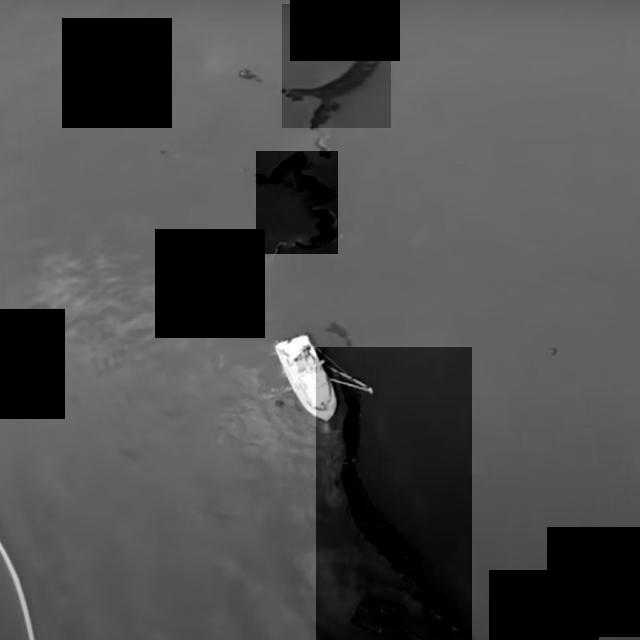oil spill: (317, 347, 472, 640), (282, 4, 391, 128), (256, 151, 338, 254)
